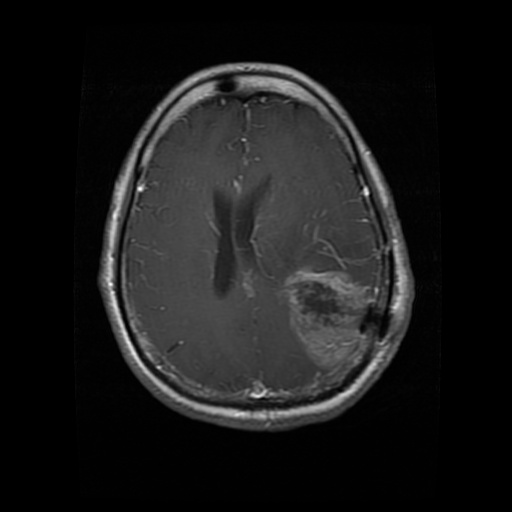glioma: (279, 265, 375, 368)
